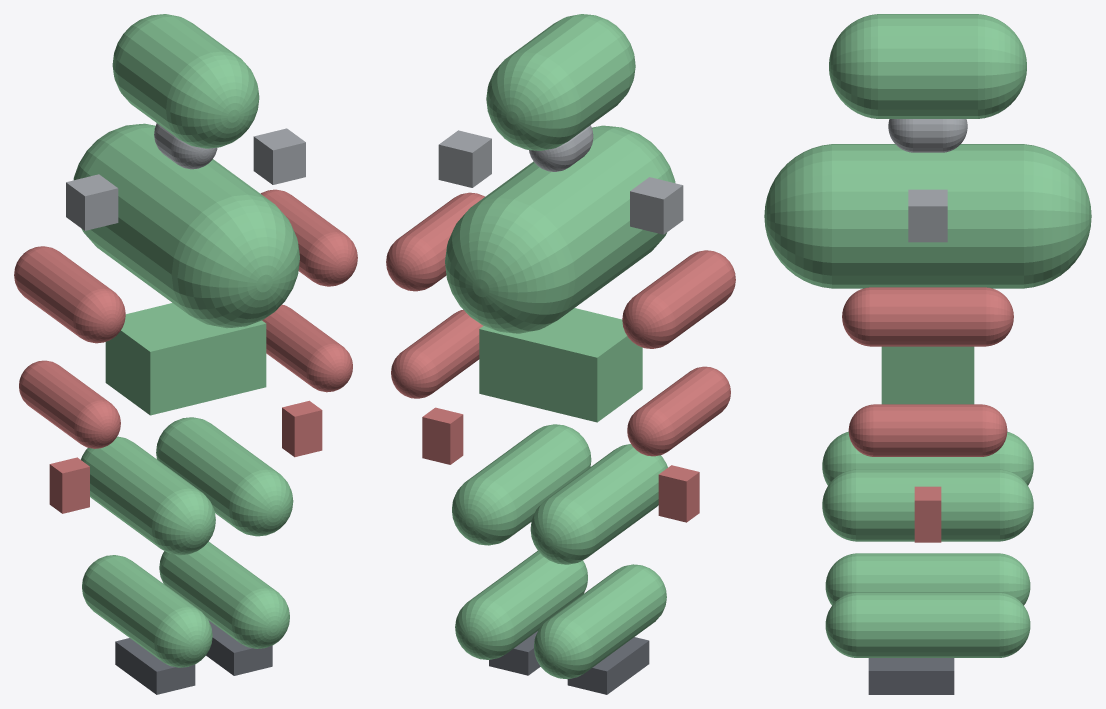
File: humanoid.glb
The picture shows the model from 3 angles, left to right: view 1: azimuth 30°, elevation 25°; view 2: azimuth 150°, elevation 25°; view 3: azimuth 270°, elevation 25°; orthographic projection. The views are drawn at different scales.
Visible parts, largest first — view 1: torso, head, pelvis, upper_leg_l, upper_leg_r, lower_leg_l, lower_leg_r, upper_arm_l, lower_arm_l, lower_arm_r, upper_arm_r, shoulder_l (+6 smaller); view 2: torso, head, pelvis, upper_leg_l, upper_leg_r, lower_leg_l, lower_leg_r, upper_arm_l, lower_arm_l, lower_arm_r, upper_arm_r, shoulder_r (+6 smaller); view 3: torso, head, upper_leg_r, lower_leg_r, upper_arm_r, lower_leg_l, lower_arm_r, pelvis, upper_leg_l, foot_r, neck, shoulder_r (+1 smaller).
Boxes of the visible parts, x1,y1,x2,y2 form: torso: (73,123,299,328); head: (112,14,259,148); pelvis: (105,303,266,415); upper_leg_l: (81,436,215,555); upper_leg_r: (156,417,293,536); lower_leg_l: (82,555,212,667); lower_leg_r: (159,541,289,648); upper_arm_l: (14,246,125,343); lower_arm_l: (19,360,120,448); lower_arm_r: (262,304,352,392); upper_arm_r: (260,189,357,286); shoulder_l: (66,174,118,230); torso: (445,125,675,333); head: (486,14,635,150); pelvis: (479,308,642,422); upper_leg_l: (530,444,667,564); upper_leg_r: (452,424,591,545); lower_leg_l: (534,564,666,679); lower_leg_r: (455,551,587,659); upper_arm_l: (622,250,735,348); lower_arm_l: (627,366,730,456); lower_arm_r: (391,309,483,398); upper_arm_r: (386,192,484,291); shoulder_r: (438,130,491,187); torso: (764,144,1091,288); head: (829,14,1026,118); upper_leg_r: (822,469,1033,541); lower_leg_r: (825,592,1030,657); upper_arm_r: (842,287,1013,346); lower_leg_l: (825,553,1030,605); lower_arm_r: (848,404,1007,456); pelvis: (881,346,974,404); upper_leg_l: (822,431,1033,485); foot_r: (868,658,954,694); neck: (888,119,967,152); shoulder_r: (908,189,947,242).
Size of the model in its own units: 1.02 by 2.16 by 0.99.
